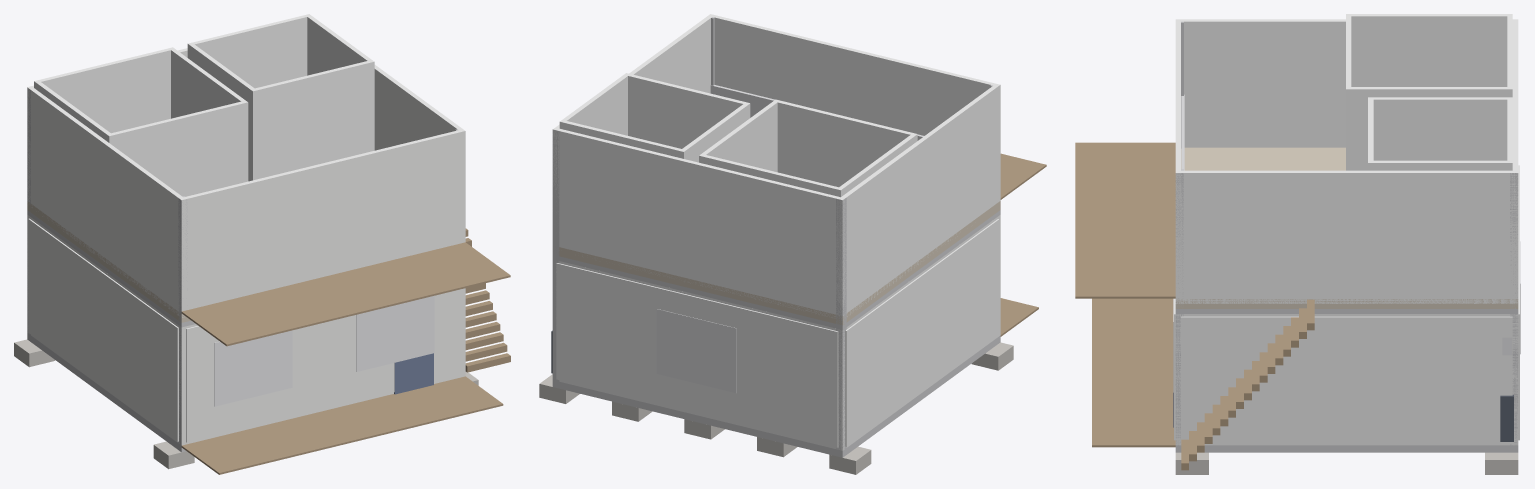
The model's file is Duplex-20-Premium+FullSolar-LOD0.glb.
3 views of the same model, side by side, from view 1: azimuth 30°, elevation 25°; view 2: azimuth 150°, elevation 25°; view 3: azimuth 270°, elevation 25° (orthographic). The views are drawn at different scales.
Parts seen in each view (by area): view 1: ExteriorShellUpper, ExteriorPanelsPremium, StudyUpper, BedroomUpper, BalconyUpper, BalconyGround, WindowsLargeUpgrade, StaircaseExternal, ExteriorShell, FoundationBlocks, FloorUpper, VerticalStructure (+3 smaller); view 2: ExteriorShellUpper, ExteriorPanelsPremium, BedroomUpper, StudyUpper, WindowsLargeUpgrade, FloorUpper, VerticalStructure, FoundationBlocks, BaseFrame, ExteriorShell, TopFrame, BalconyUpper (+2 smaller); view 3: ExteriorShellUpper, ExteriorPanelsPremium, BalconyUpper, BedroomUpper, BalconyGround, StudyUpper, FloorUpper, StaircaseExternal, ExteriorShell, BaseFrame, VerticalStructure, TopFrame (+2 smaller).
Part boxes in pixels (x1=…): ExteriorShellUpper: x1=27, y1=48, x2=465, y2=317; ExteriorPanelsPremium: x1=28, y1=218, x2=461, y2=442; StudyUpper: x1=187, y1=14, x2=374, y2=181; BedroomUpper: x1=34, y1=47, x2=248, y2=196; BalconyUpper: x1=181, y1=242, x2=510, y2=346; BalconyGround: x1=181, y1=376, x2=503, y2=474; WindowsLargeUpgrade: x1=214, y1=295, x2=434, y2=406; StaircaseExternal: x1=465, y1=228, x2=510, y2=372; ExteriorShell: x1=27, y1=215, x2=465, y2=445; FoundationBlocks: x1=14, y1=339, x2=478, y2=469; FloorUpper: x1=27, y1=201, x2=190, y2=322; VerticalStructure: x1=27, y1=89, x2=458, y2=445; ExteriorShellUpper: x1=552, y1=14, x2=1000, y2=318; ExteriorPanelsPremium: x1=556, y1=219, x2=999, y2=447; BedroomUpper: x1=699, y1=99, x2=917, y2=197; StudyUpper: x1=559, y1=73, x2=750, y2=162; WindowsLargeUpgrade: x1=656, y1=309, x2=736, y2=393; FloorUpper: x1=558, y1=201, x2=1000, y2=325; VerticalStructure: x1=552, y1=17, x2=998, y2=449; FoundationBlocks: x1=539, y1=342, x2=1013, y2=474; BaseFrame: x1=552, y1=335, x2=1000, y2=457; ExteriorShell: x1=556, y1=215, x2=1000, y2=450; TopFrame: x1=555, y1=210, x2=1000, y2=329; BalconyUpper: x1=1000, y1=153, x2=1046, y2=199; ExteriorShellUpper: x1=1175, y1=19, x2=1518, y2=303; ExteriorPanelsPremium: x1=1174, y1=165, x2=1519, y2=443; BalconyUpper: x1=1075, y1=142, x2=1175, y2=298; BedroomUpper: x1=1346, y1=14, x2=1512, y2=170; BalconyGround: x1=1092, y1=298, x2=1175, y2=447; StudyUpper: x1=1368, y1=97, x2=1512, y2=170; FloorUpper: x1=1175, y1=147, x2=1518, y2=308; StaircaseExternal: x1=1181, y1=299, x2=1314, y2=470; ExteriorShell: x1=1175, y1=314, x2=1518, y2=445; BaseFrame: x1=1175, y1=445, x2=1518, y2=452; VerticalStructure: x1=1175, y1=21, x2=1518, y2=445; TopFrame: x1=1175, y1=309, x2=1518, y2=313.
Bounding box in the file's own units: 7.94 × 6 × 8.
